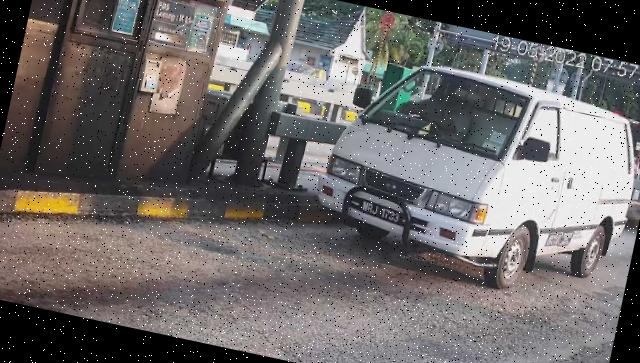License_Plate: (362, 203, 406, 229)
van: (305, 46, 640, 313)
